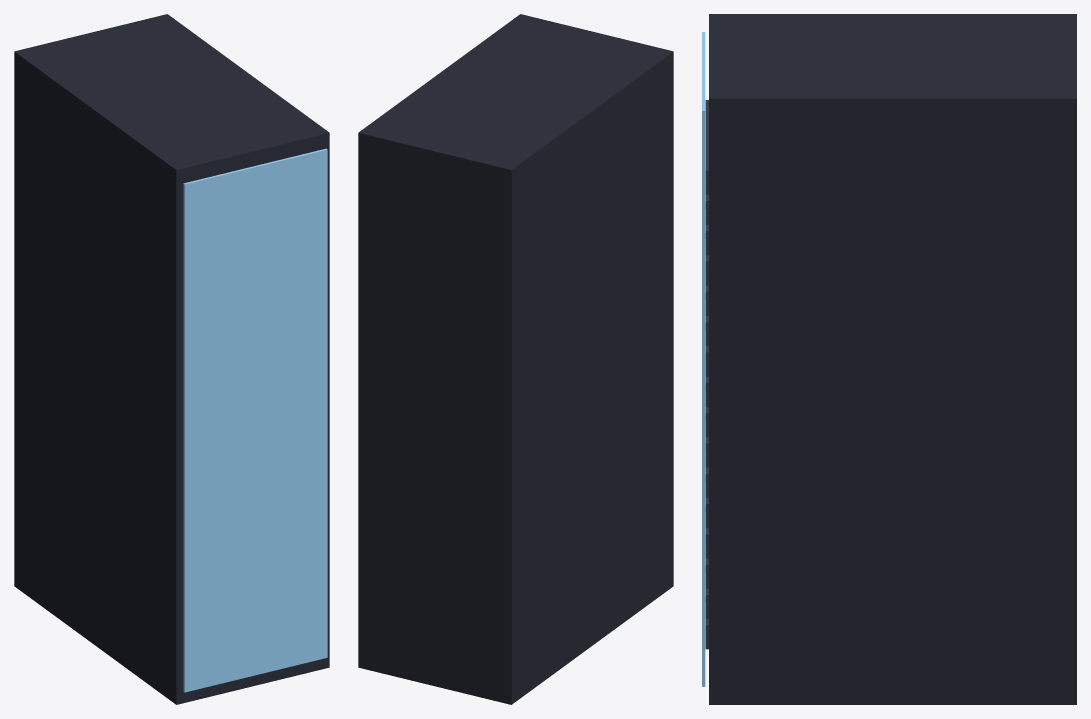
3 renders of one model, left to right at view 1: azimuth 30°, elevation 25°; view 2: azimuth 150°, elevation 25°; view 3: azimuth 270°, elevation 25°, orthographic. The views are drawn at different scales.
Visible parts, largest first — view 1: plastic_dark, glass; view 2: plastic_dark; view 3: plastic_dark, glass, dark_steel.
Boxes of the visible parts, bbox=[...] form: plastic_dark: bbox=[14, 14, 329, 704]; glass: bbox=[183, 148, 327, 692]; plastic_dark: bbox=[358, 14, 673, 704]; plastic_dark: bbox=[709, 14, 1076, 704]; glass: bbox=[702, 32, 705, 686]; dark_steel: bbox=[705, 100, 708, 649].
Size of the model in its own units: 0.6 by 2 by 1.12.
